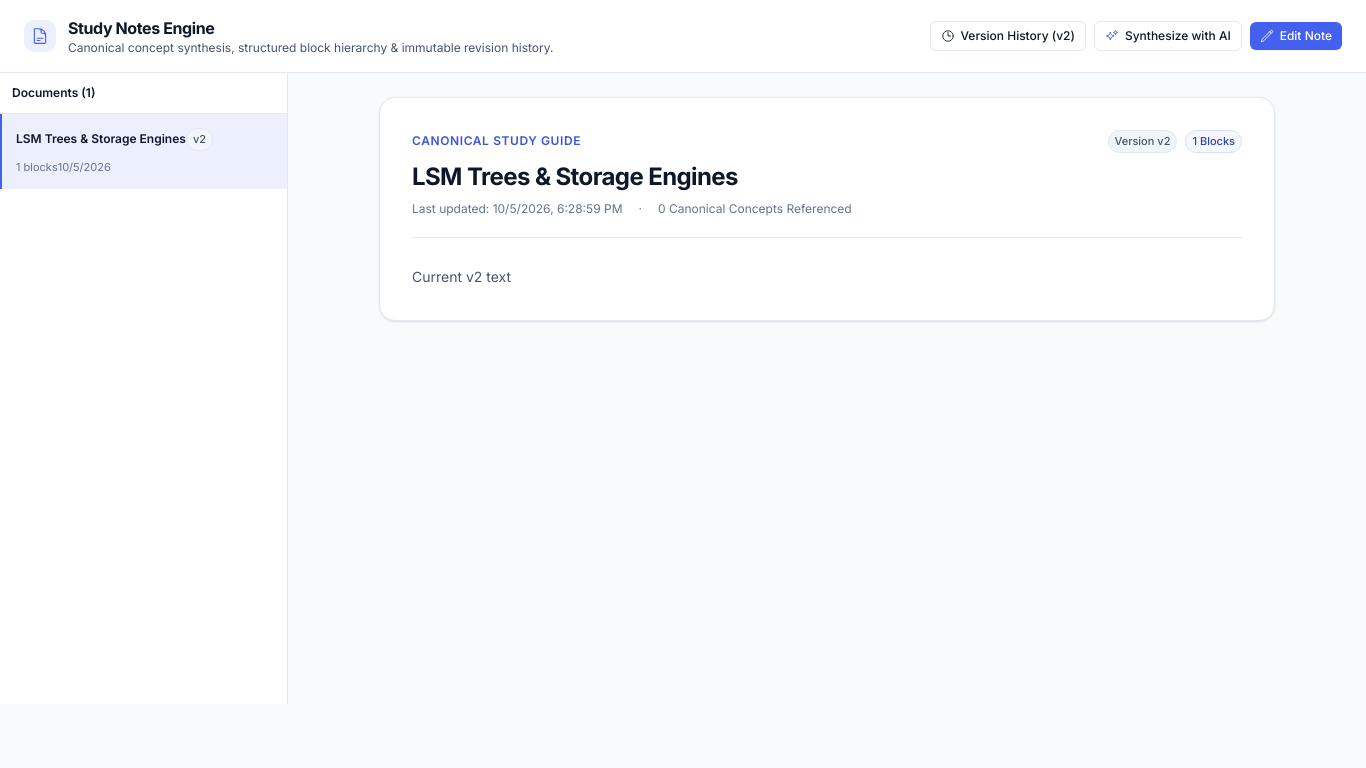
Scenario: Structured Notes Engine Frontend Workflows (Phase 07) › opens VersionHistoryDrawer when Version History button is clicked
The image size is (1366, 768).
Check: the text "Version History (v2)" is shown, box x1=960 y1=28 x2=1075 y2=44
Click the button "Version History (v2)".
click(1008, 36)  # box x1=930 y1=21 x2=1086 y2=51
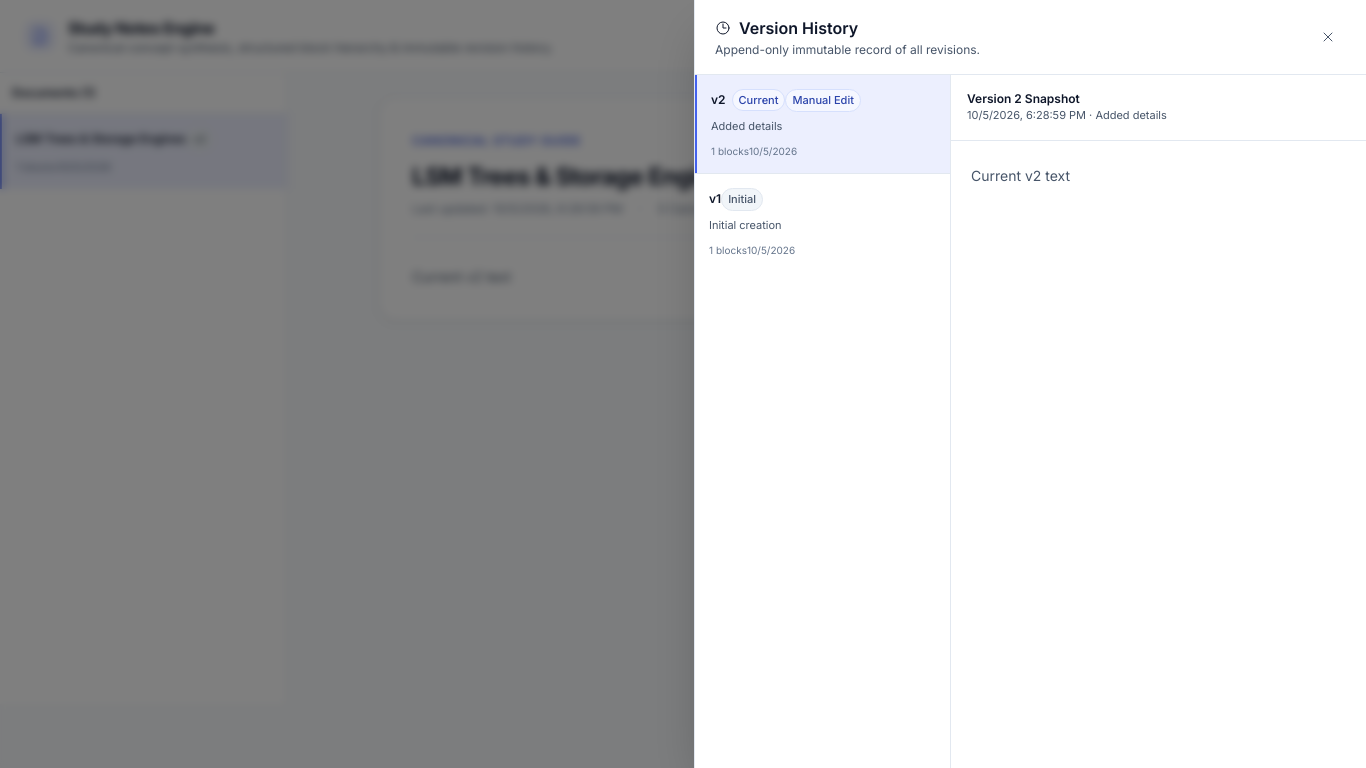
Check: the text "Append-only immutable record of all revisions." is shown, box x1=715 y1=42 x2=980 y2=58
Check: the text "Initial creation" is shown, box x1=709 y1=216 x2=782 y2=233
